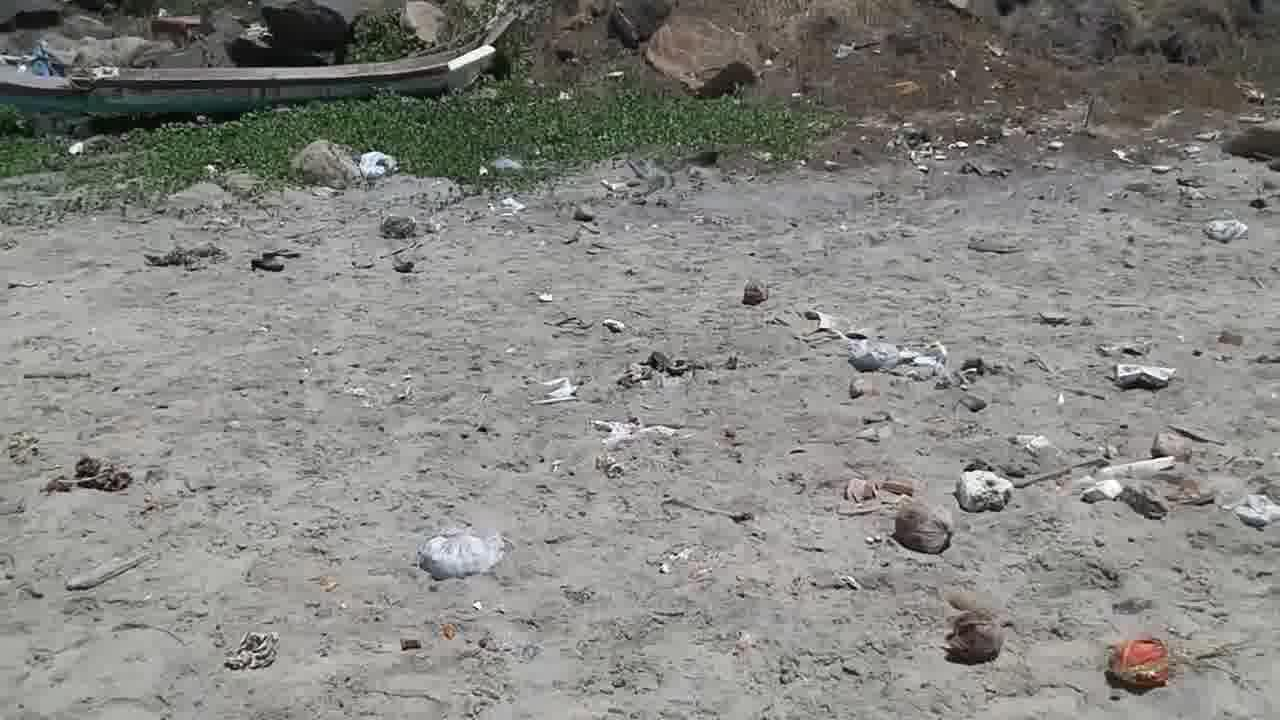large collection of objects: (228, 631, 280, 673)
obj: (0, 77, 840, 182), (850, 342, 951, 380), (419, 532, 493, 580), (948, 610, 1008, 664), (46, 459, 136, 494), (896, 504, 960, 548)
sand/background: (1, 0, 1279, 194)
